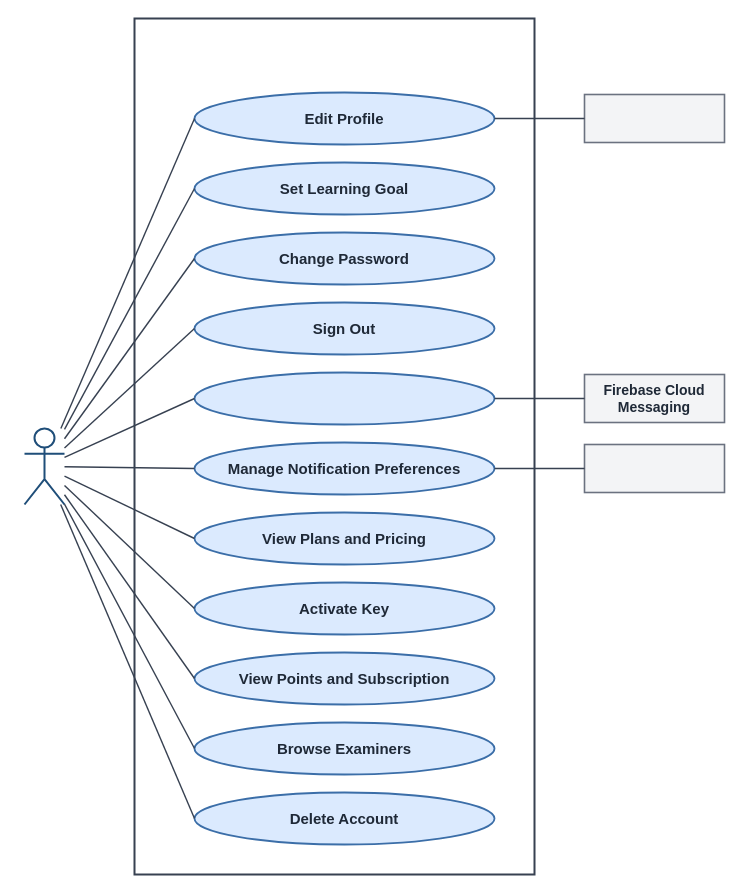
Some shapes in this 743 by 892 pixel diagram are drawn without their labels. Here are the shapes that lost their labels. From the top down, the box of each, then its label:
(583, 93, 725, 143): Supabase Storage
(193, 371, 495, 425): View Notifications
(23, 427, 65, 505): Learner
(133, 17, 535, 875): IELTSPath
(583, 443, 725, 493): Email Service
